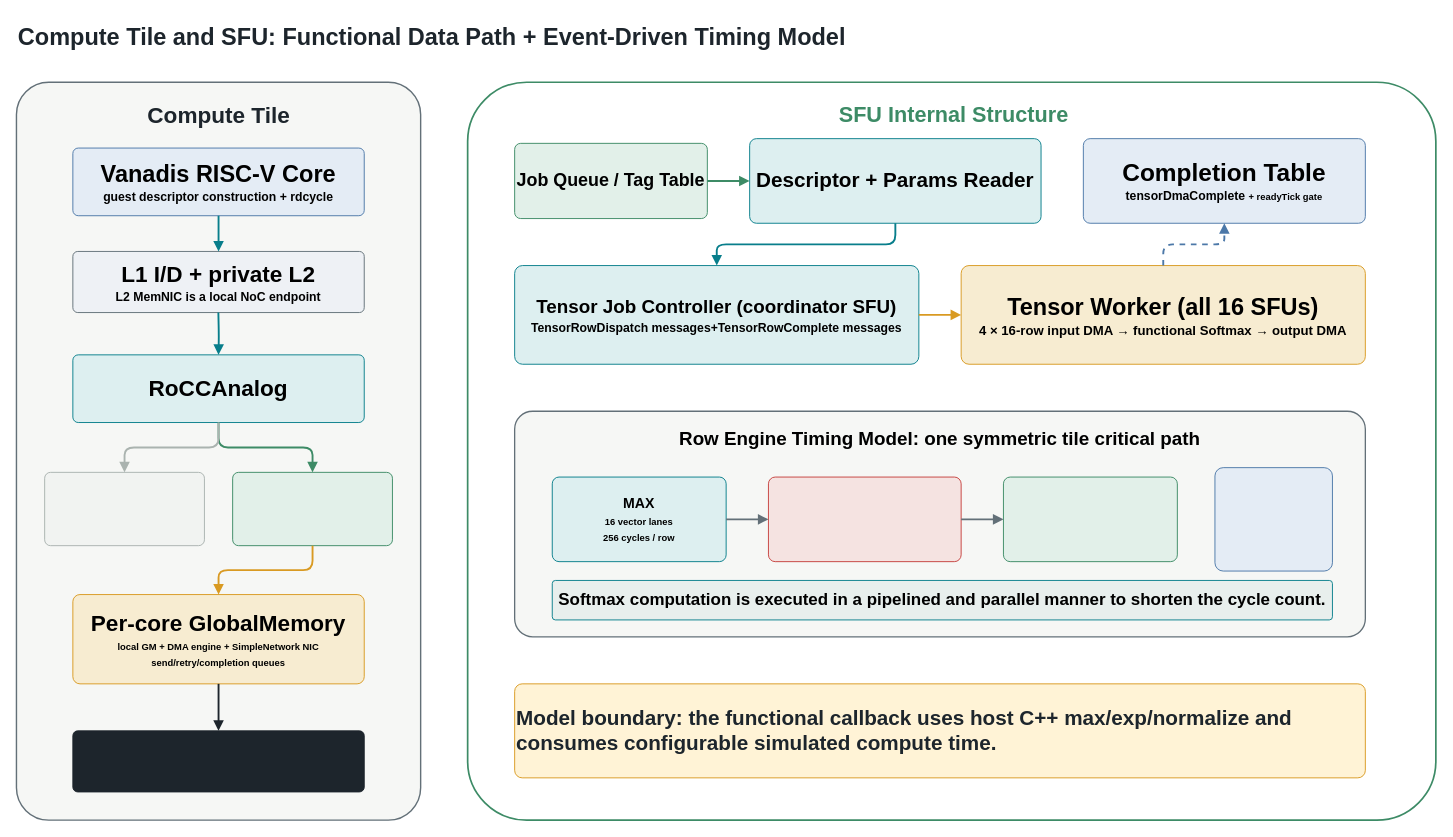
Image size: 1453x837. Some labels were removed from this diagram. The centre of each missing label's shape, as x and y in pixels:
"4 row contexts 64-KiB modeled scratchpad row interval = max(256,1024,256)" goes at (1273,519).
"EXP + SUM 4 EXP lanes · latency 8 1024 cycles / row" goes at (864,519).
"Merlin Mesh NoC L2 endpoint + GlobalMemory endpoint" goes at (218,761).
"MVM Array" goes at (124,508).
"NORMALIZE 16 vector lanes 256 cycles / row" goes at (1090,519).
"SFU" goes at (312,508).
